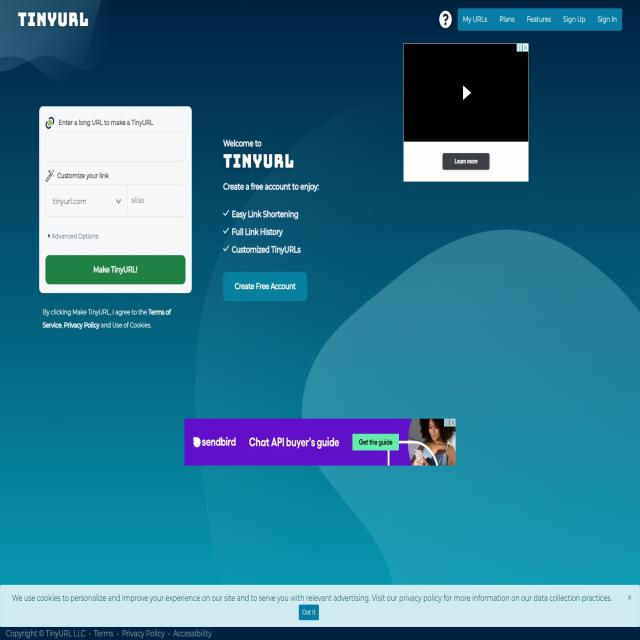menu-bar: (456, 6, 624, 32)
